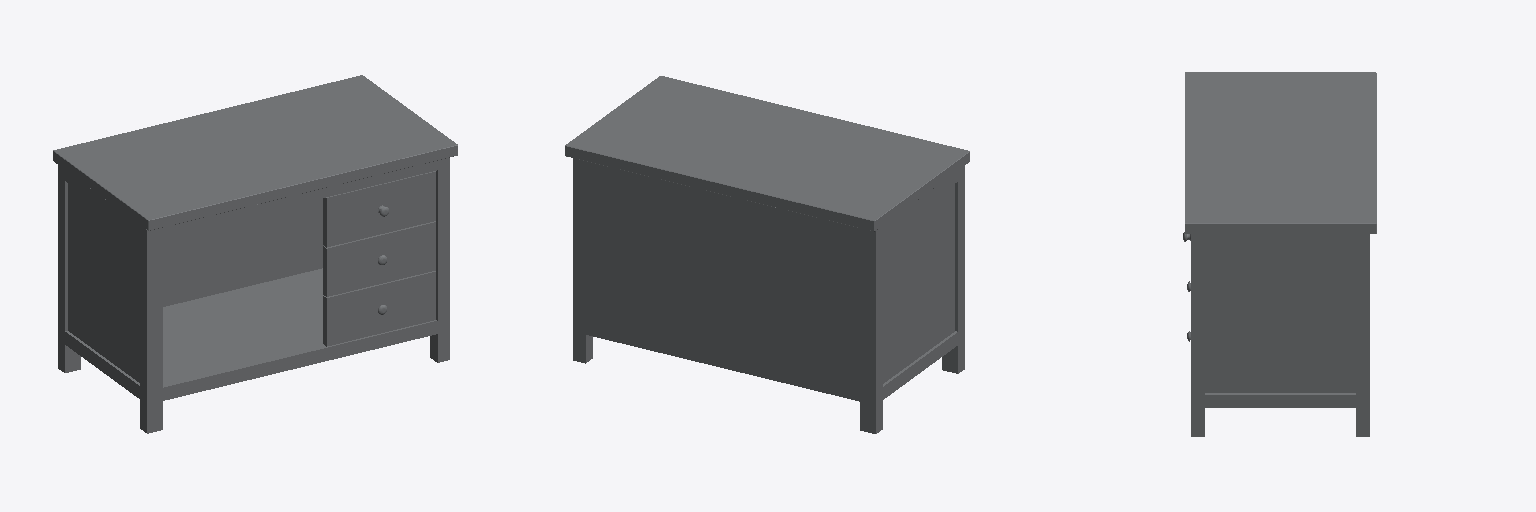
Rendered from desk.obj.
The picture shows the model from 3 angles: view 1: azimuth 30°, elevation 25°; view 2: azimuth 150°, elevation 25°; view 3: azimuth 270°, elevation 25°; orthographic projection.
Parts seen in each view (by area): view 1: table_Cube; view 2: table_Cube; view 3: table_Cube.
Boxes of the visible parts, x1,y1,x2,y2 form: table_Cube: [53, 75, 457, 433]; table_Cube: [565, 76, 969, 433]; table_Cube: [1185, 72, 1376, 436].
Bounding box in the file's own units: 112 × 74.57 × 60.52.